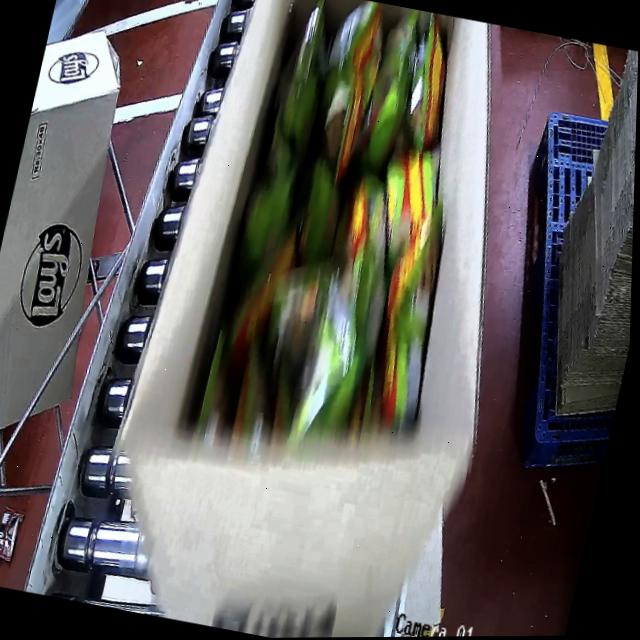YOGURT_HERB: (166, 0, 515, 494)
